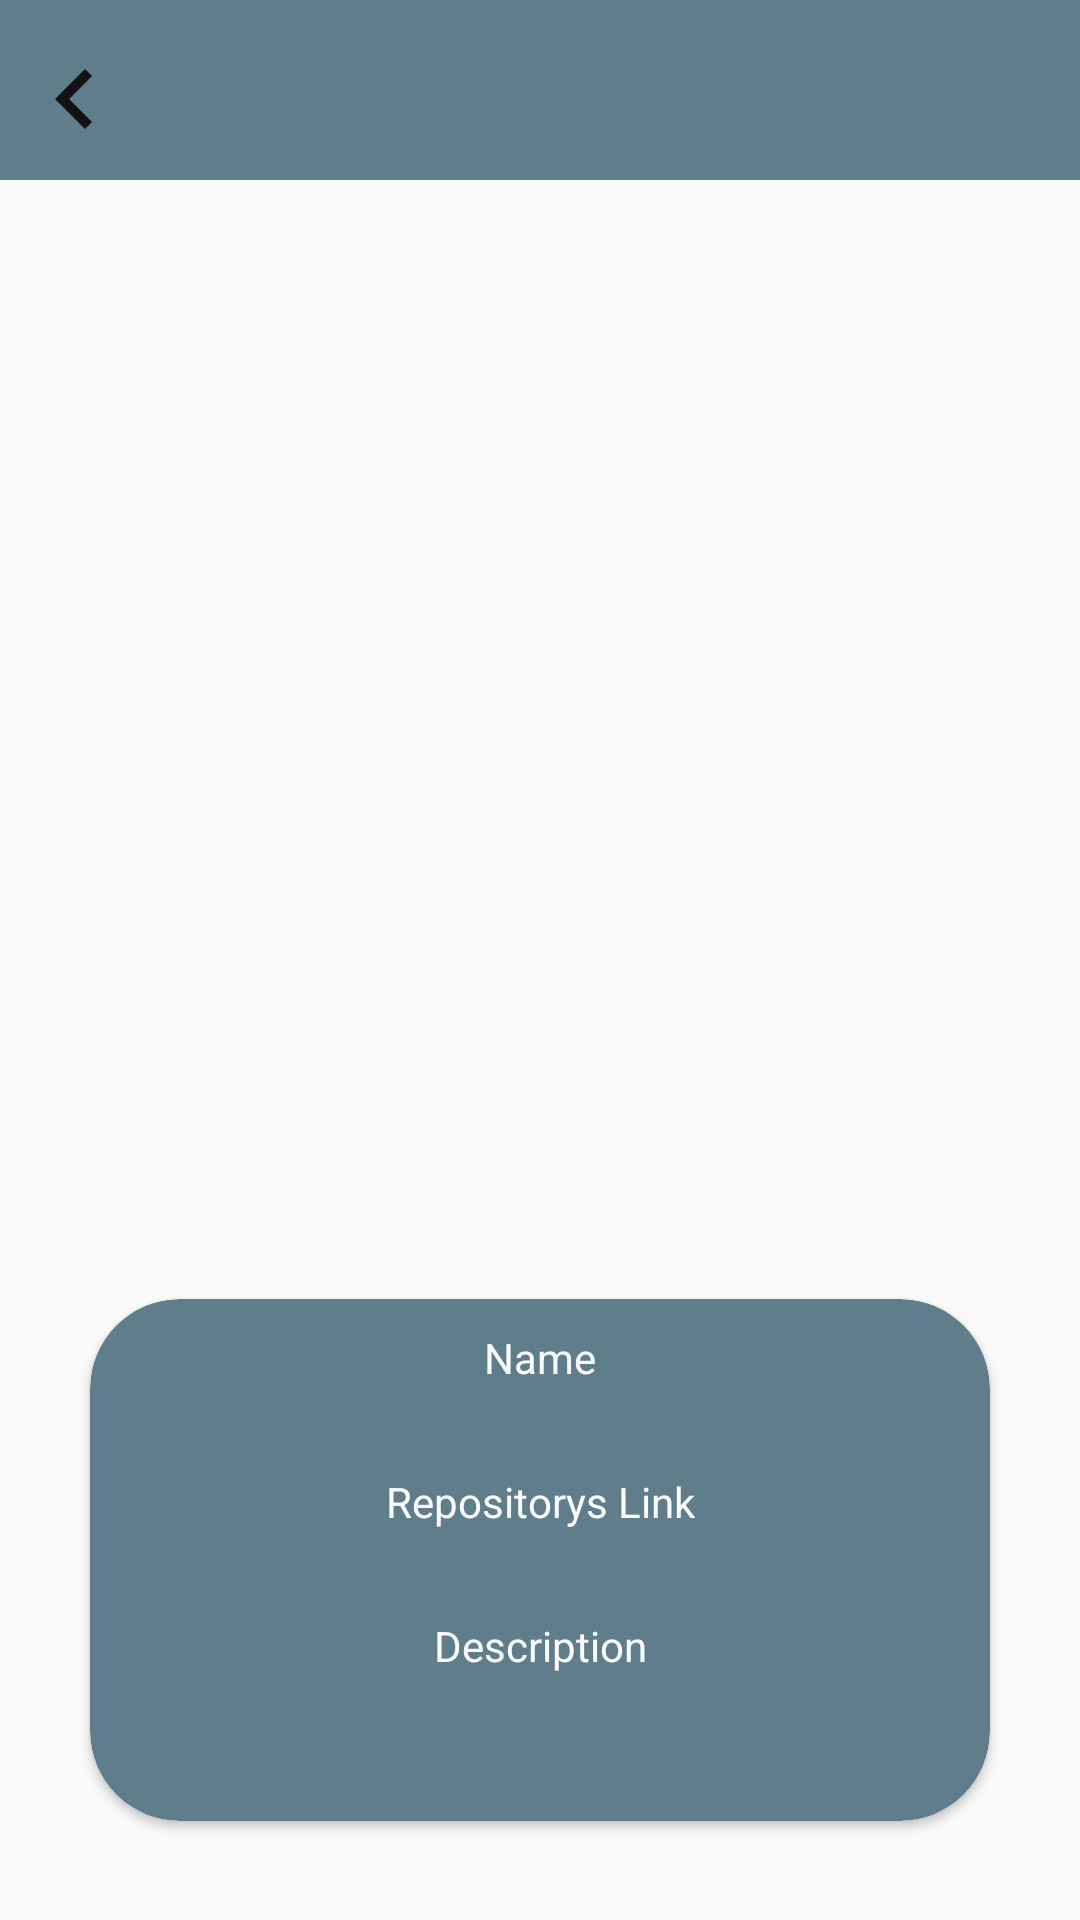

Locate icon controls on the screen. Image size 1080x1920, boxes as bbox(x1, y1, x2, y2).
arrow left: bbox(55, 69, 92, 129)
